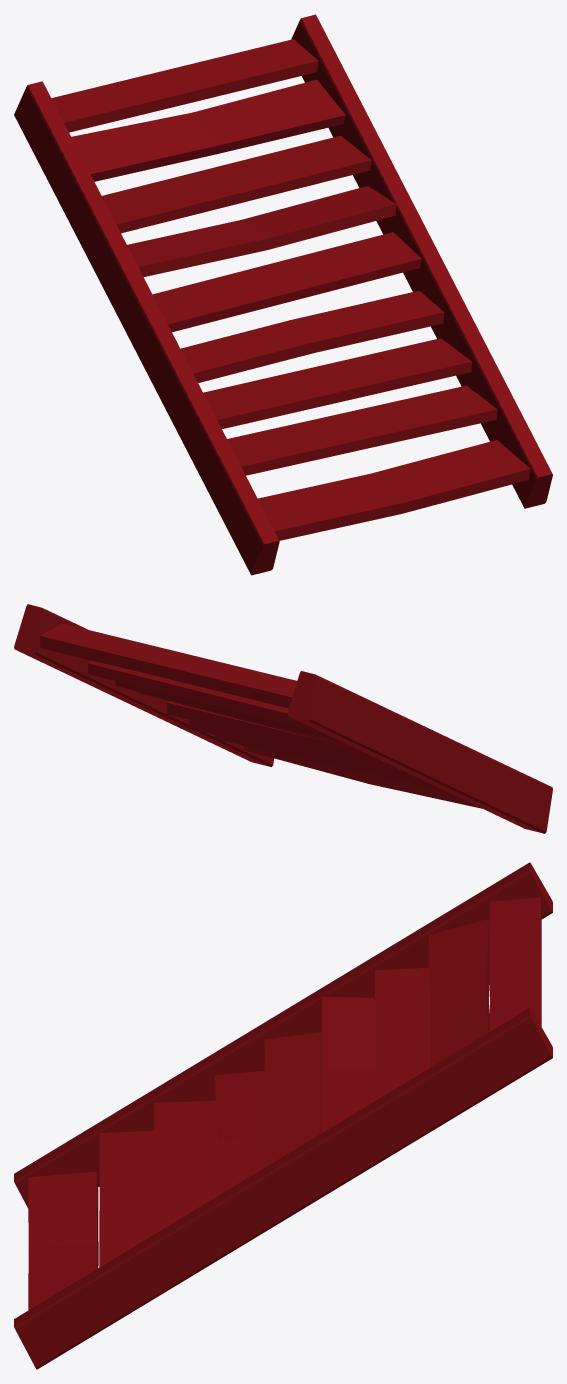
Rendered from SM_MH_01_Wood_Stairs_02.fbx.
3 views of the same model, one above another, from view 1: azimuth 30°, elevation 25°; view 2: azimuth 150°, elevation 25°; view 3: azimuth 270°, elevation 25° (orthographic). The views are drawn at different scales.
Visible parts, largest first — view 1: SM_MH_01_Wood_Stairs_02_LOD0; view 2: SM_MH_01_Wood_Stairs_02_LOD0; view 3: SM_MH_01_Wood_Stairs_02_LOD0.
Boxes of the visible parts, x1,y1,x2,y2 form: SM_MH_01_Wood_Stairs_02_LOD0: (14, 14, 552, 575); SM_MH_01_Wood_Stairs_02_LOD0: (14, 604, 552, 833); SM_MH_01_Wood_Stairs_02_LOD0: (14, 862, 552, 1369).
Size of what is drawn, in the model's own units: 108 by 113 by 157.
